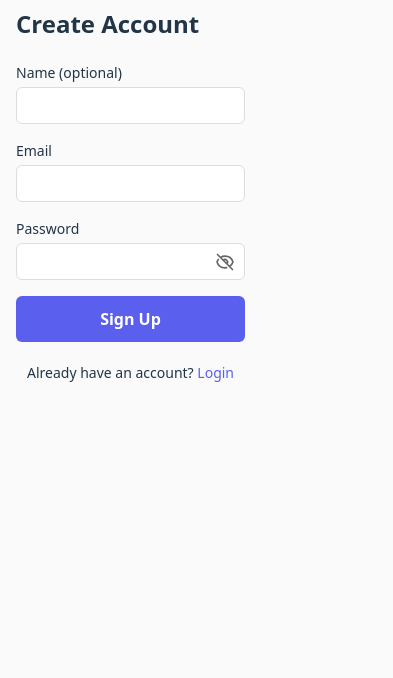
Signup Page › Password Validation Errors › displays password validation errors from backend
Step 1. Type "test@test.com" into the field labelled "Email" → point(130, 184), box [16,165,245,202]
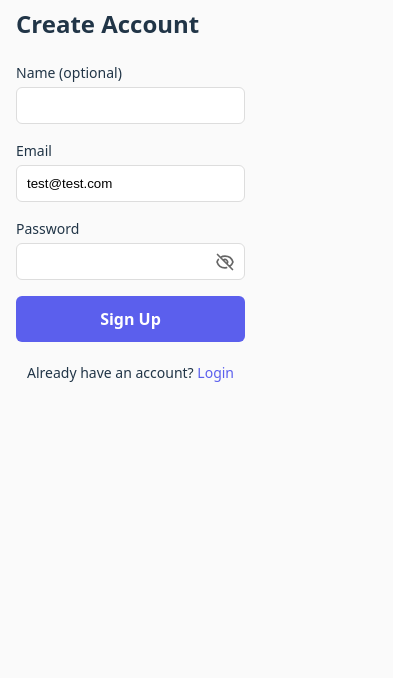
Step 2. Type "weak" into the password field labelled "Password" → point(130, 262), box [16,243,245,280]
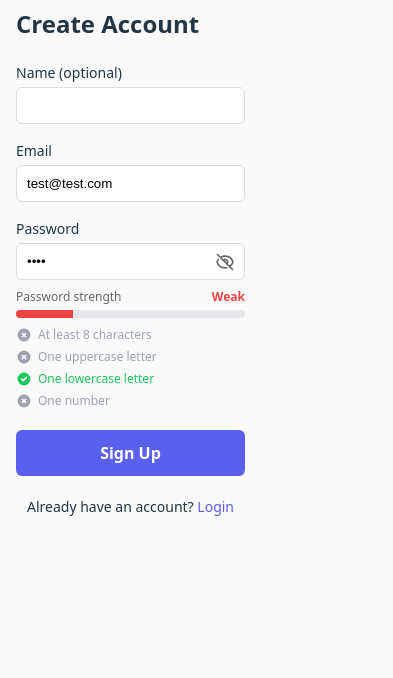
Step 3. Click the button "Sign Up" → point(130, 453), box [16,430,245,476]
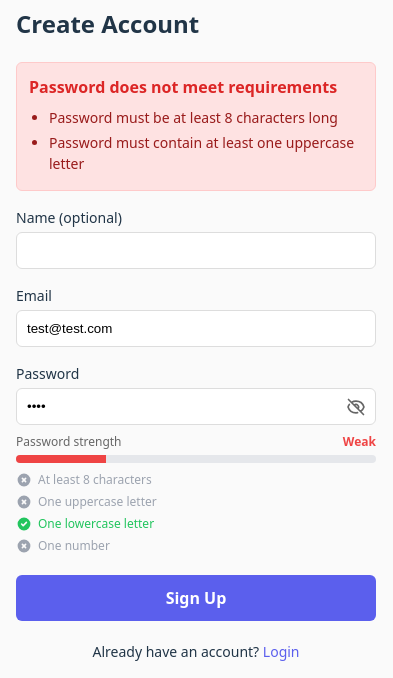
expect the text "Password does not meet requirements" is shown: met, box [29,75,363,99]
expect the list item "Password must be at least 8 characters long" is shown: met, box [49,107,363,128]
expect the list item "Password must contain at least one uppercase letter" is shown: met, box [49,132,363,174]
